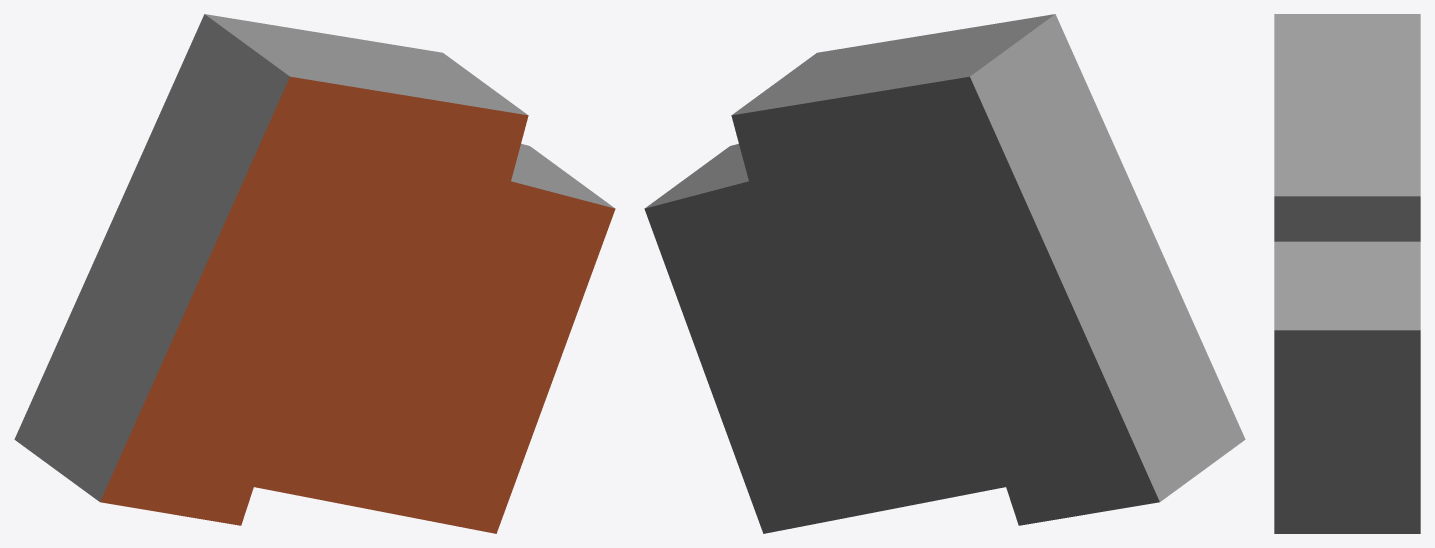
File: construction_3502_assumed_A_Casa_h6m.obj
3 views of the same model, side by side, from view 1: azimuth 30°, elevation 25°; view 2: azimuth 150°, elevation 25°; view 3: azimuth 270°, elevation 25° (orthographic). The views are drawn at different scales.
Parts seen in each view (by area): view 1: construction_3502_assumed_A_Casa; view 2: construction_3502_assumed_A_Casa; view 3: construction_3502_assumed_A_Casa.
Boxes of the visible parts, x1,y1,x2,y2 form: construction_3502_assumed_A_Casa: (14, 14, 615, 533); construction_3502_assumed_A_Casa: (644, 14, 1245, 533); construction_3502_assumed_A_Casa: (1274, 14, 1420, 533).
Bounding box in the file's own units: 20.86 × 19.63 × 6.
